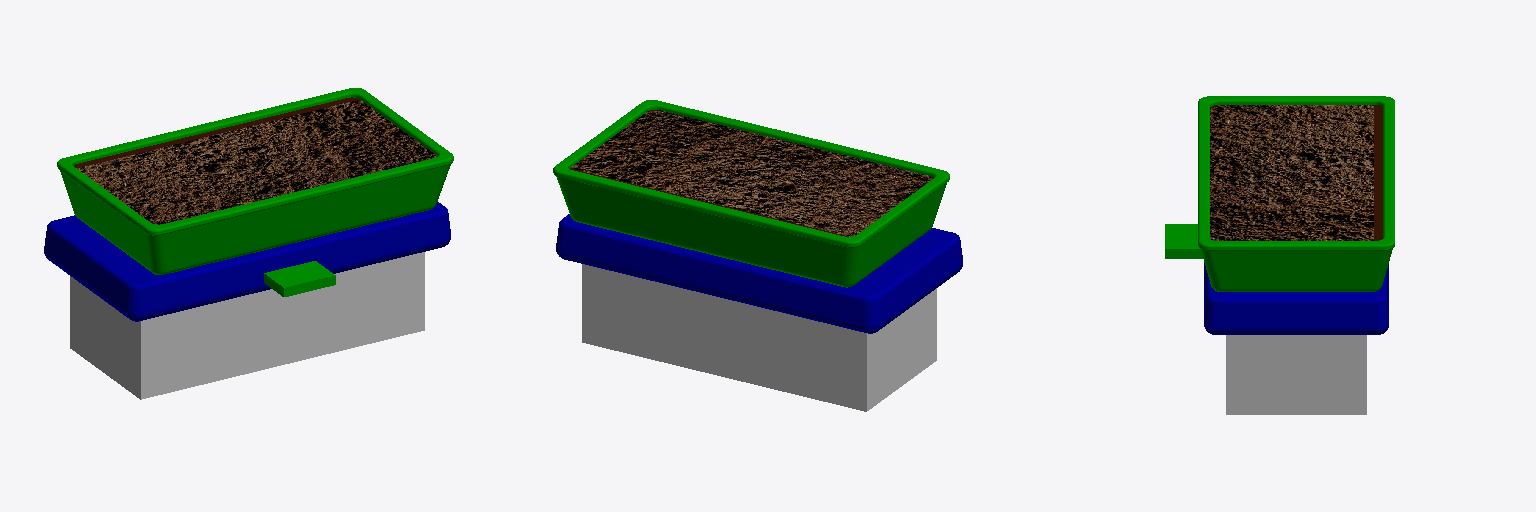
3 views of the same model, side by side, from view 1: azimuth 30°, elevation 25°; view 2: azimuth 150°, elevation 25°; view 3: azimuth 270°, elevation 25° (orthographic).
Visible parts, largest first — view 1: brick, soil_layer_TurfAssembly.001, truf_top_TurfAssembly.002, truf_base_TurfAssembly.001, Cube; view 2: brick, soil_layer_TurfAssembly.001, truf_top_TurfAssembly.002, truf_base_TurfAssembly.001; view 3: soil_layer_TurfAssembly.001, truf_top_TurfAssembly.002, brick, truf_base_TurfAssembly.001, Cube.
Boxes of the visible parts, x1=… form: brick: x1=70, y1=252, x2=424, y2=399; soil_layer_TurfAssembly.001: x1=74, y1=97, x2=437, y2=224; truf_top_TurfAssembly.002: x1=57, y1=88, x2=453, y2=274; truf_base_TurfAssembly.001: x1=44, y1=202, x2=450, y2=321; Cube: x1=264, y1=261, x2=335, y2=296; brick: x1=582, y1=264, x2=936, y2=411; soil_layer_TurfAssembly.001: x1=570, y1=110, x2=933, y2=236; truf_top_TurfAssembly.002: x1=553, y1=100, x2=949, y2=287; truf_base_TurfAssembly.001: x1=556, y1=214, x2=962, y2=333; soil_layer_TurfAssembly.001: x1=1210, y1=105, x2=1382, y2=240; truf_top_TurfAssembly.002: x1=1198, y1=96, x2=1394, y2=291; brick: x1=1226, y1=335, x2=1366, y2=414; truf_base_TurfAssembly.001: x1=1204, y1=263, x2=1388, y2=334; Cube: x1=1165, y1=224, x2=1202, y2=258.
Size of the model in its own units: 0.7952 by 0.4208 by 0.4911.
Materials: 4 (1 with a texture image).